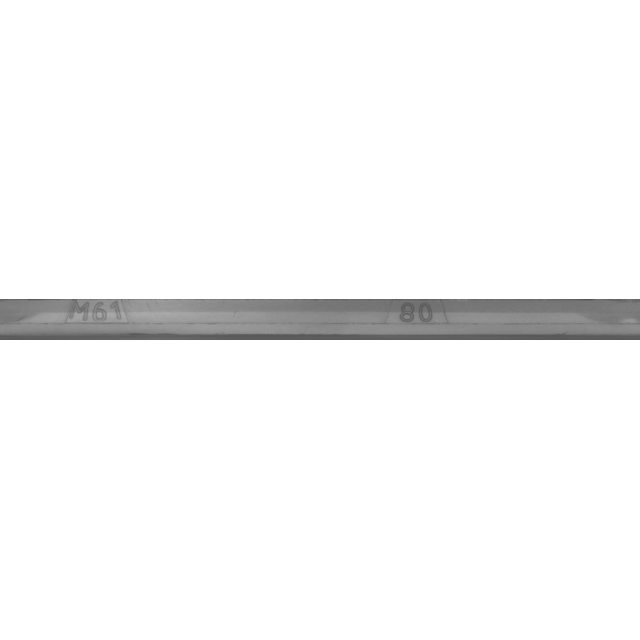mohao: (0, 270, 186, 370)
xuehao: (315, 270, 515, 370)
